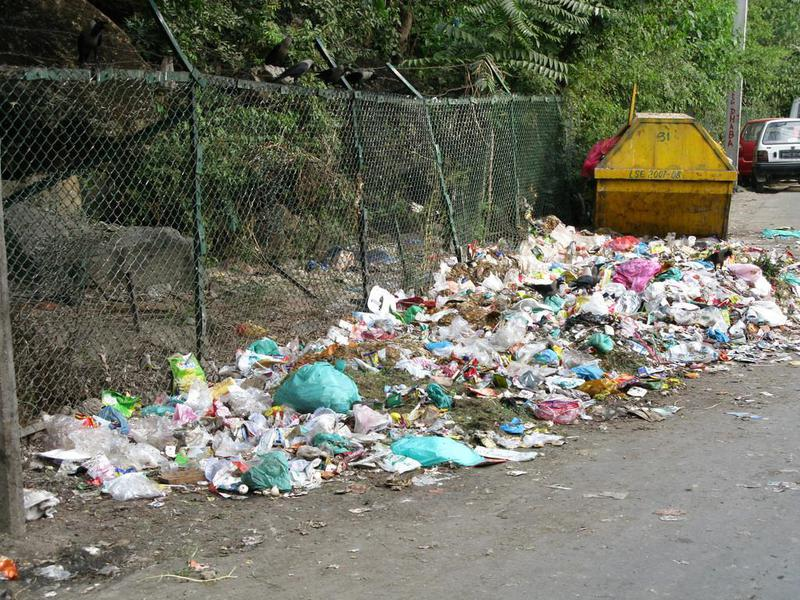plastic: (271, 359, 363, 416), (36, 410, 134, 452), (388, 429, 482, 469), (97, 470, 168, 504), (611, 253, 663, 295), (110, 440, 165, 468)
